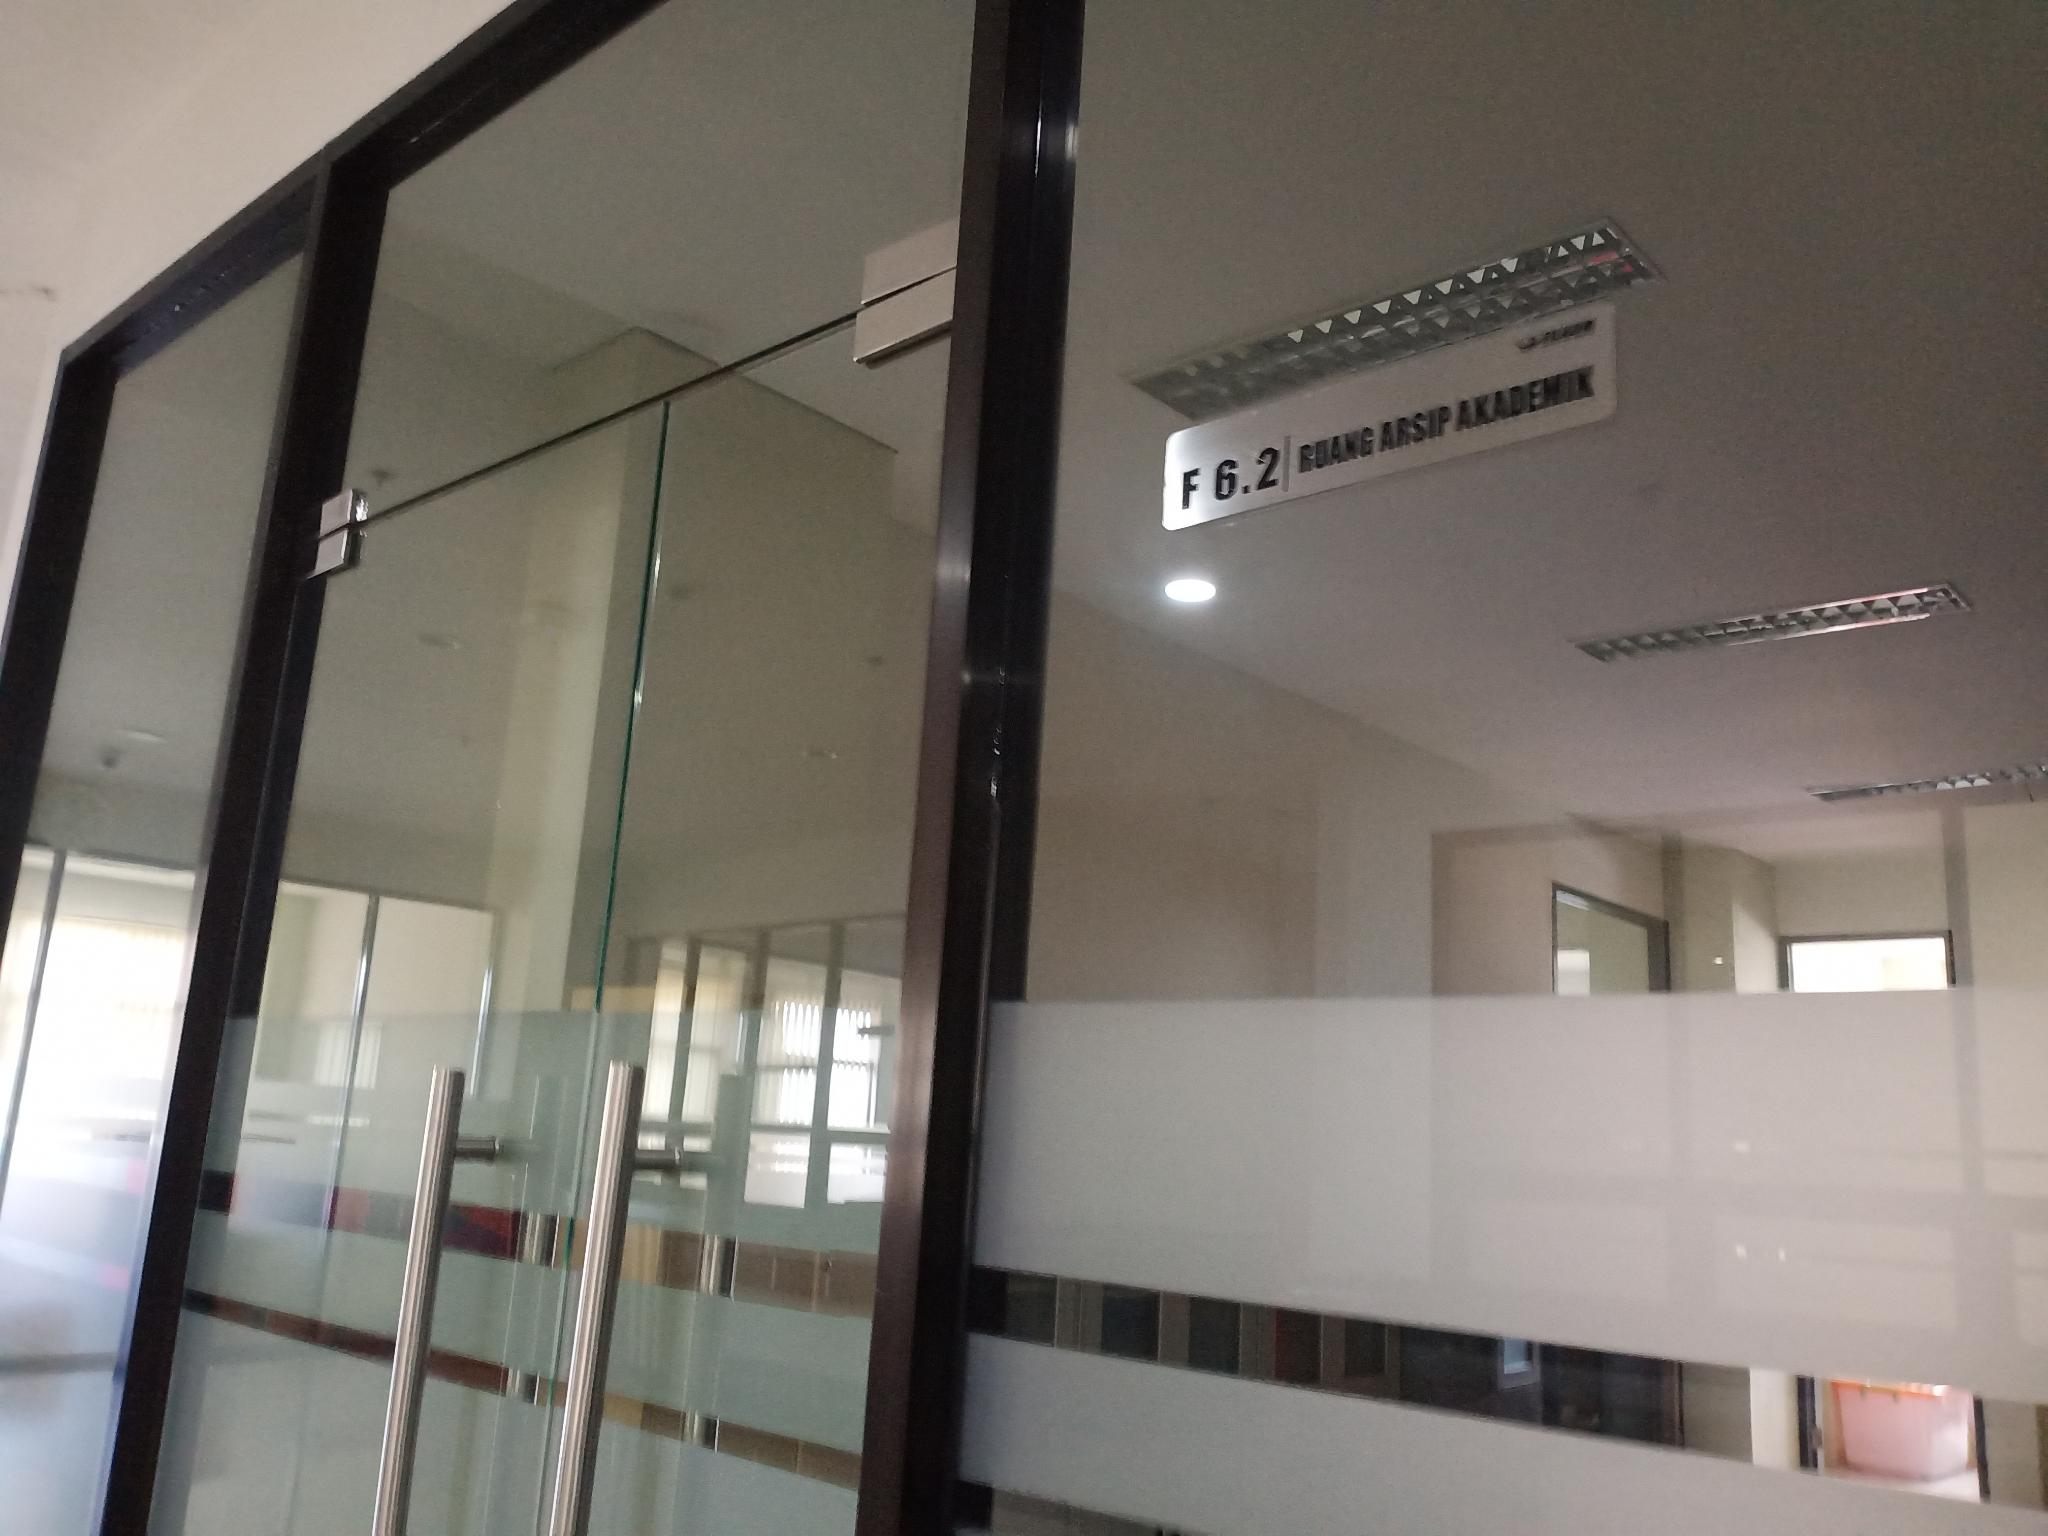plate: (1161, 298, 1617, 532)
